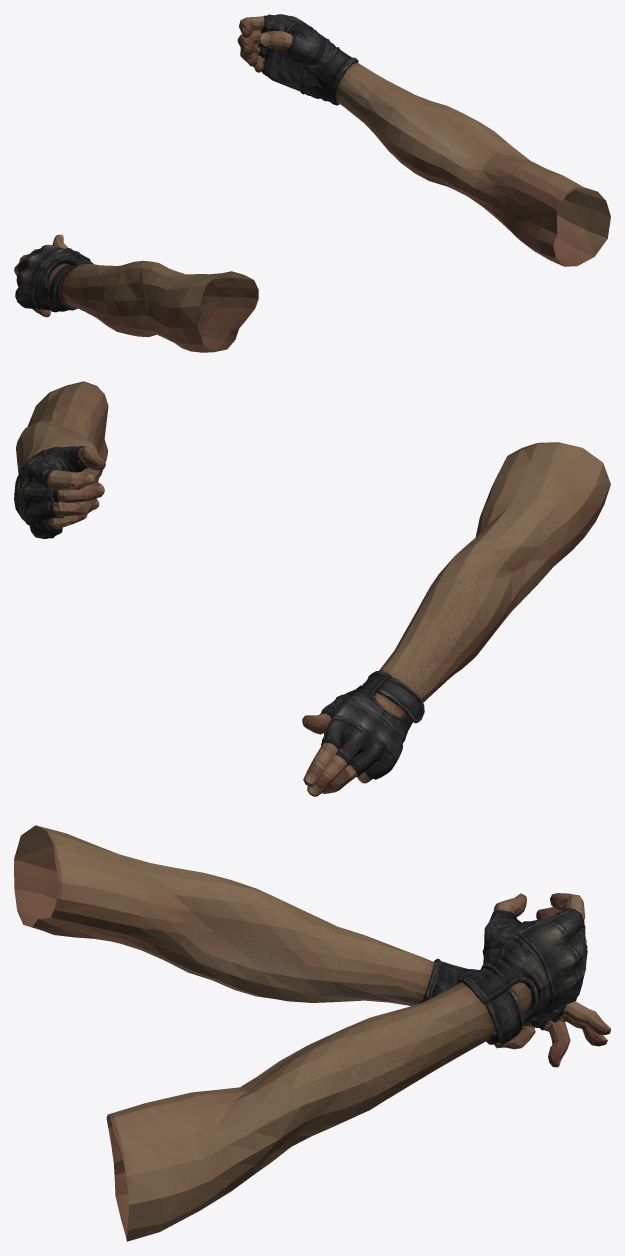
The model's file is t_arms_grip.obj.
3 views of the same model, one above another, from view 1: azimuth 30°, elevation 25°; view 2: azimuth 150°, elevation 25°; view 3: azimuth 270°, elevation 25° (orthographic). The views are drawn at different scales.
Size of the model in its own units: 0.3301 by 0.1574 by 0.2722.
Materials: 2 (2 with a texture image).
